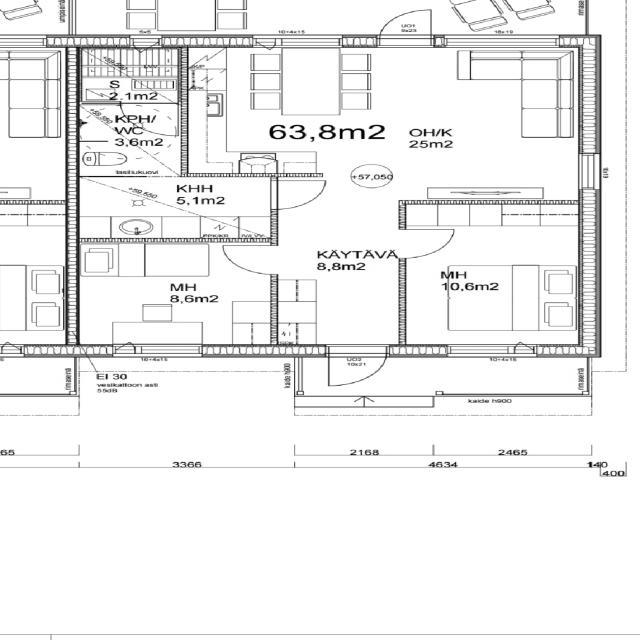door: (321, 346, 392, 388), (374, 4, 436, 42), (399, 225, 461, 260), (215, 242, 278, 276), (270, 175, 329, 211)
window: (429, 31, 564, 54), (253, 32, 352, 50), (437, 343, 532, 361), (572, 150, 606, 193), (120, 344, 213, 359)
zone: (193, 47, 588, 186), (402, 214, 588, 350), (71, 242, 279, 351), (186, 48, 376, 160), (76, 174, 227, 240), (75, 101, 185, 176), (68, 0, 252, 38), (75, 49, 186, 104), (0, 268, 71, 348), (0, 355, 79, 397)
